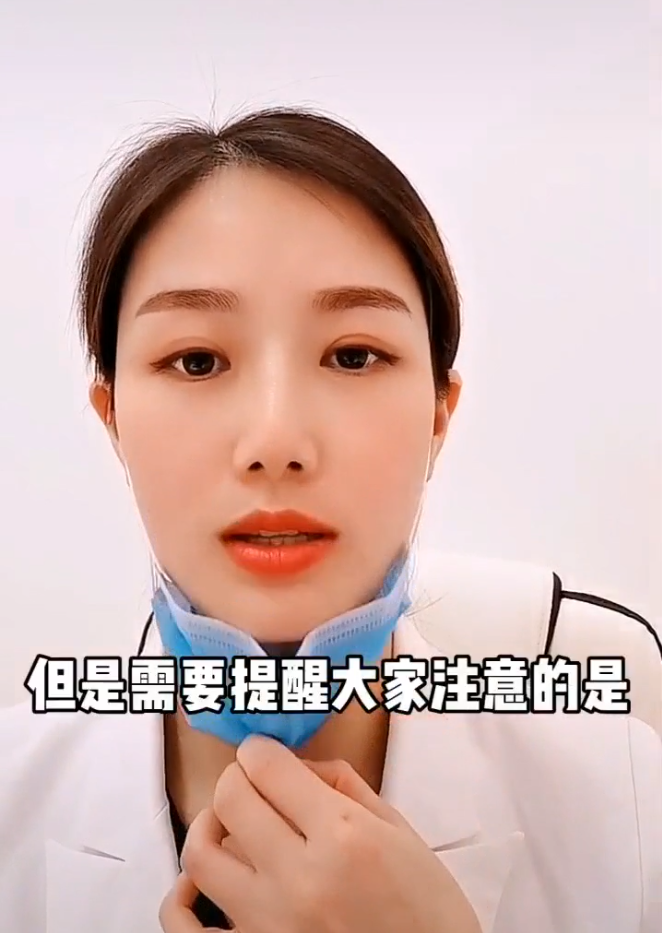face: (118, 201, 433, 647)
